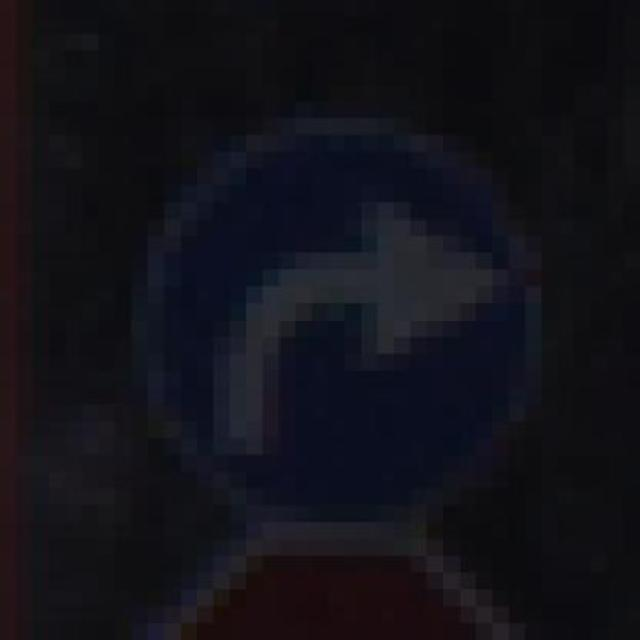Turn right ahead: (115, 67, 574, 573)
